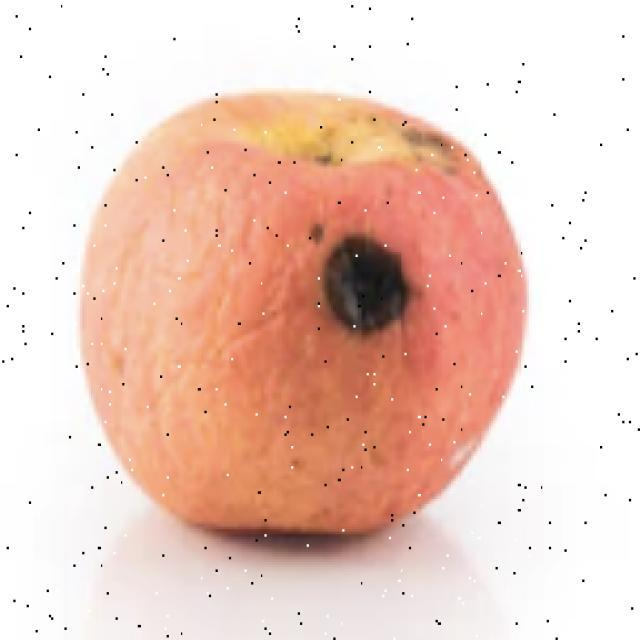Rotten: (93, 83, 527, 567)
